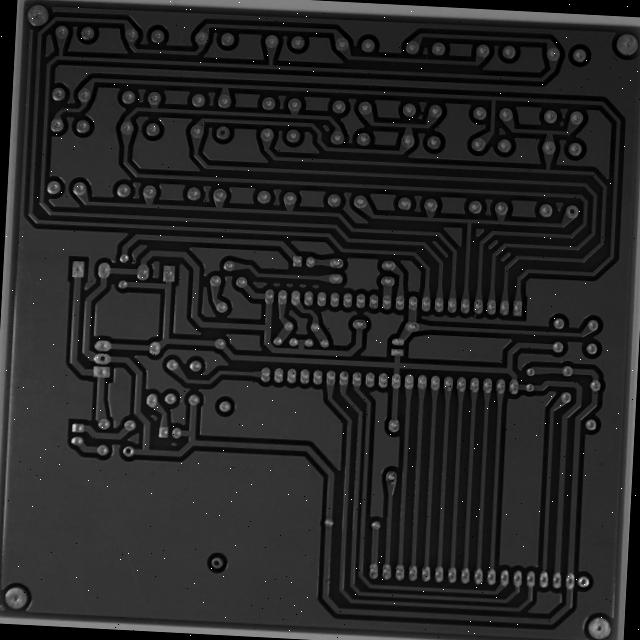missing_hole: (229, 88, 248, 108), (601, 174, 620, 193), (223, 550, 241, 566), (129, 430, 145, 446), (101, 333, 118, 348)
